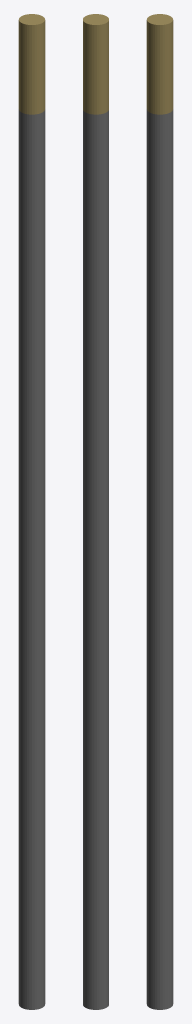
File: UpdatedA08E5A.glb
3 views of the same model, side by side, from view 1: azimuth 90°, elevation 25°; view 2: azimuth 150°, elevation 25°; view 3: azimuth 270°, elevation 25° (orthographic).
Visible parts, largest first — view 1: Long_Electrode_Body, Long_Electrode_Tip; view 2: Long_Electrode_Body, Long_Electrode_Tip; view 3: Long_Electrode_Body, Long_Electrode_Tip.
Boxes of the visible parts, left/top/right/bottom form: Long_Electrode_Body: left=18, top=109, right=45, bottom=1009; Long_Electrode_Tip: left=18, top=14, right=45, bottom=114; Long_Electrode_Body: left=83, top=110, right=108, bottom=1009; Long_Electrode_Tip: left=83, top=14, right=108, bottom=114; Long_Electrode_Body: left=146, top=109, right=173, bottom=1009; Long_Electrode_Tip: left=146, top=14, right=173, bottom=114.
Size of the model in its own units: 0.4 by 16.5 by 0.4.
